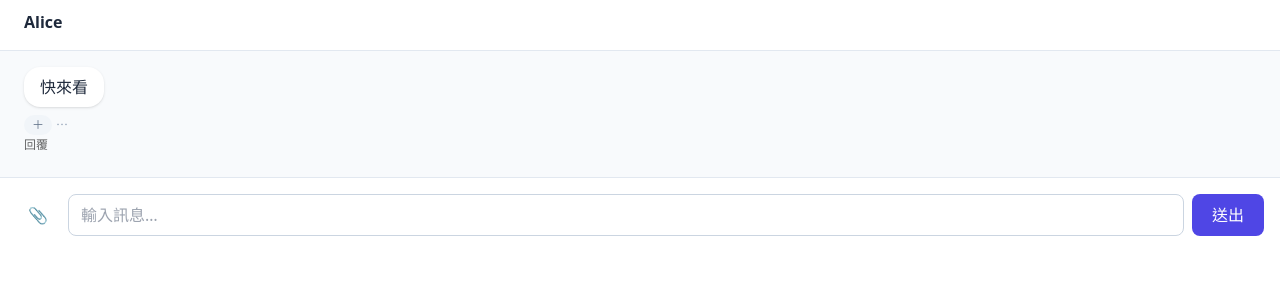
Test case: Thread 回覆 UI › 點「回覆」後 composer 上方出現引用橫幅（寄件人名 + 內容）
Click the button "回覆" at coordinates (36, 145), box [24,137,48,153]
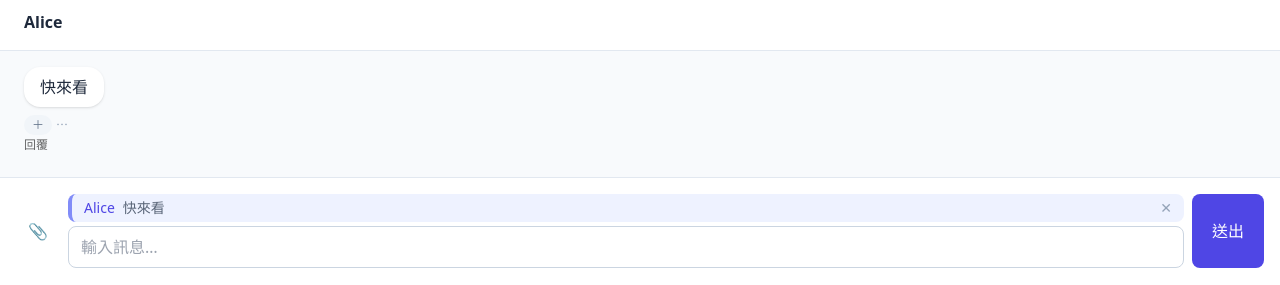
Result: the button named "取消回覆" is shown at [1160,198,1172,218]
Result: the element named "取消回覆" shows "快來看" at [123,198,165,217]
